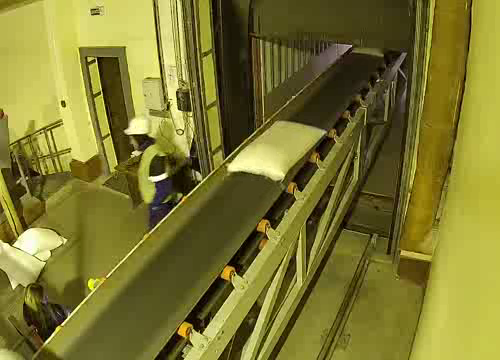bag: (223, 118, 333, 187), (349, 43, 389, 57)
